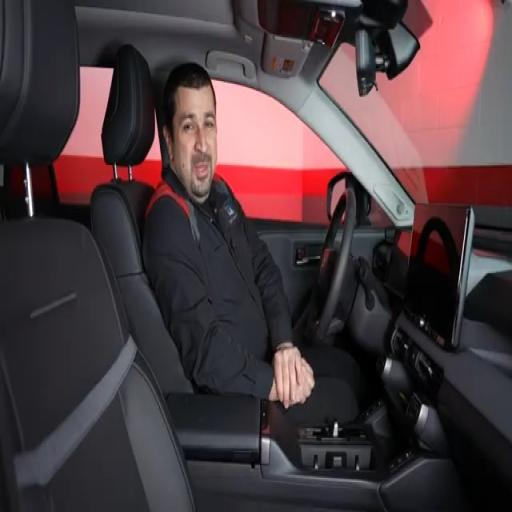side_mirror: (327, 171, 371, 226)
window: (214, 82, 344, 224)
windshield: (319, 0, 511, 206)
